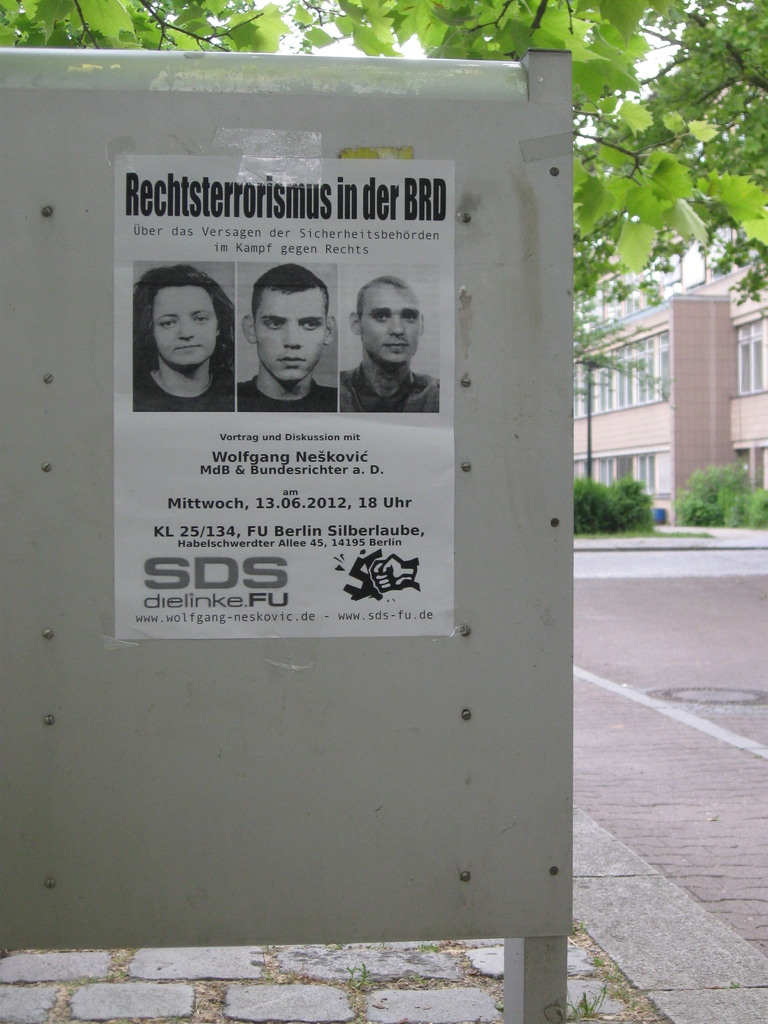Human-face: (259, 276, 322, 377), (157, 276, 215, 367), (357, 283, 420, 360)
